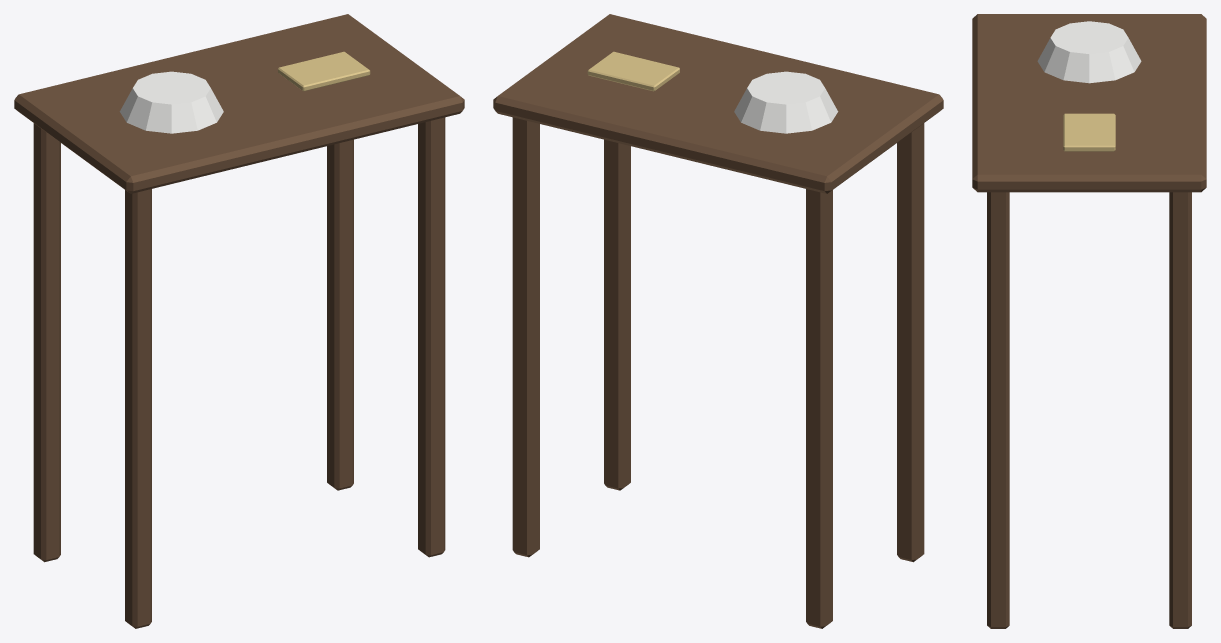
Rendered from side_table.fbx.
3 renders of one model, left to right at view 1: azimuth 30°, elevation 25°; view 2: azimuth 150°, elevation 25°; view 3: azimuth 270°, elevation 25°, orthographic.
Visible parts, largest first — view 1: Table; view 2: Table; view 3: Table.
Part boxes in pixels (x1,y1,x2,y2): Table: [14, 14, 464, 628]; Table: [493, 14, 943, 628]; Table: [972, 14, 1206, 628].
Bounding box in the file's own units: 0.6 × 0.82 × 0.36.
